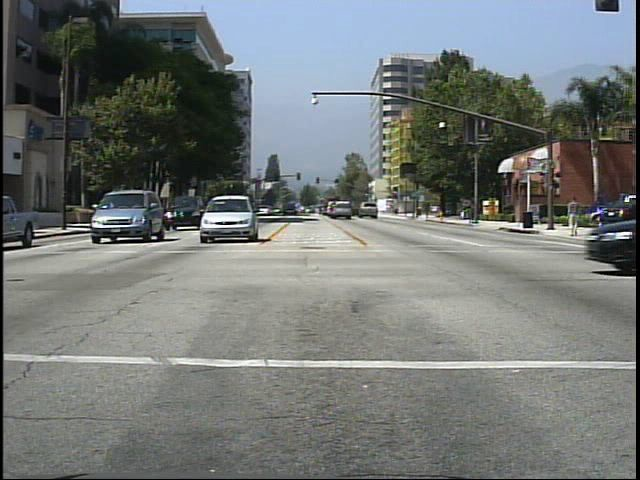person: (566, 192, 585, 239)
